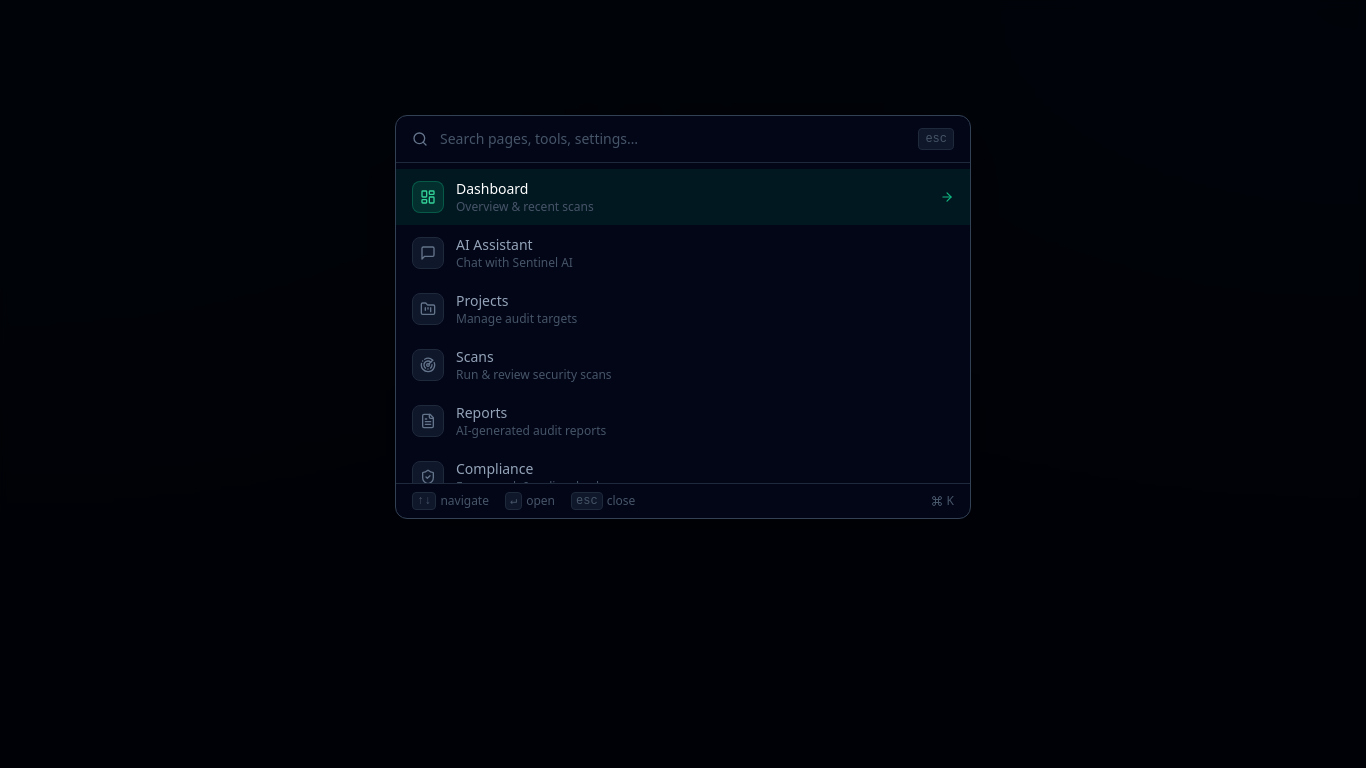
Scenario: CommandPalette — filtering › filters items when typing in search
Type "compliance" into the field with placeholder "Search pages, tools, settings…" at coordinates (673, 139), box [440,129,906,149]
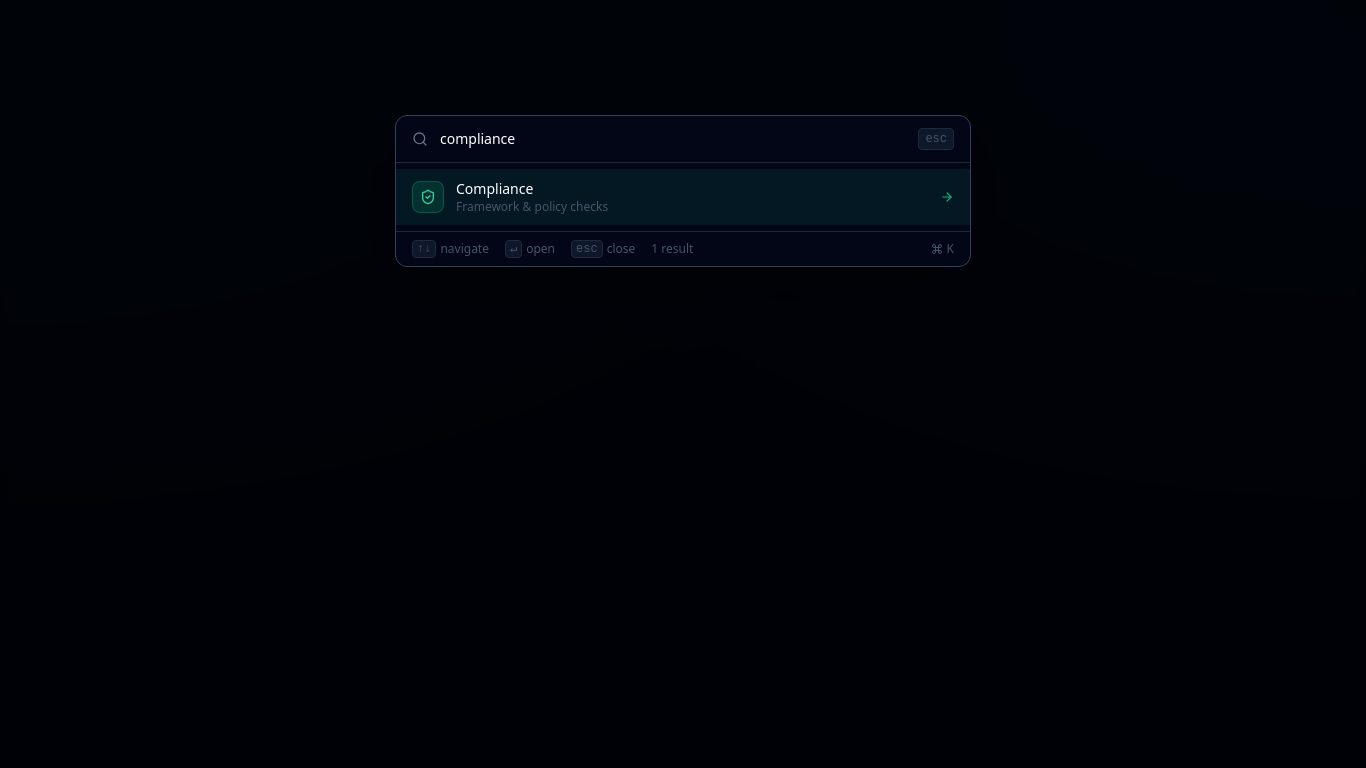
Check: the text "Compliance" is shown, box [456,179,533,198]
Check: the button "Dashboard" is gone
